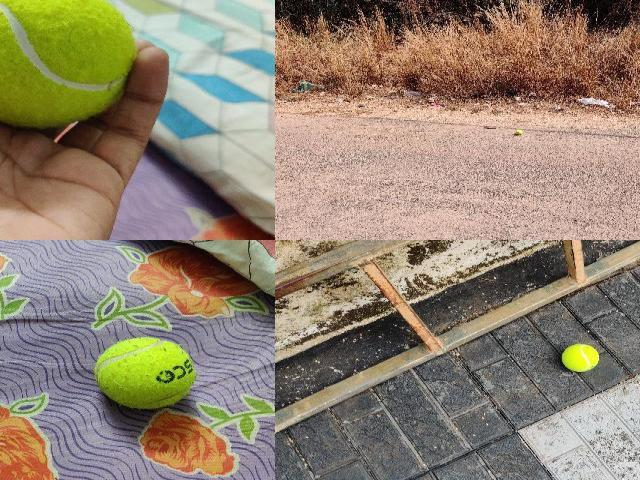tennis-ball: (0, 0, 139, 130), (94, 337, 196, 409), (561, 344, 599, 372), (516, 130, 522, 134)
